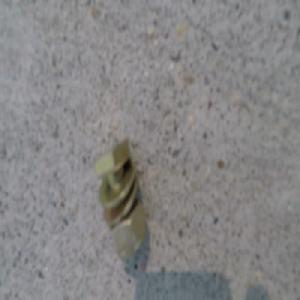BoltNutSet: (88, 138, 143, 253)
